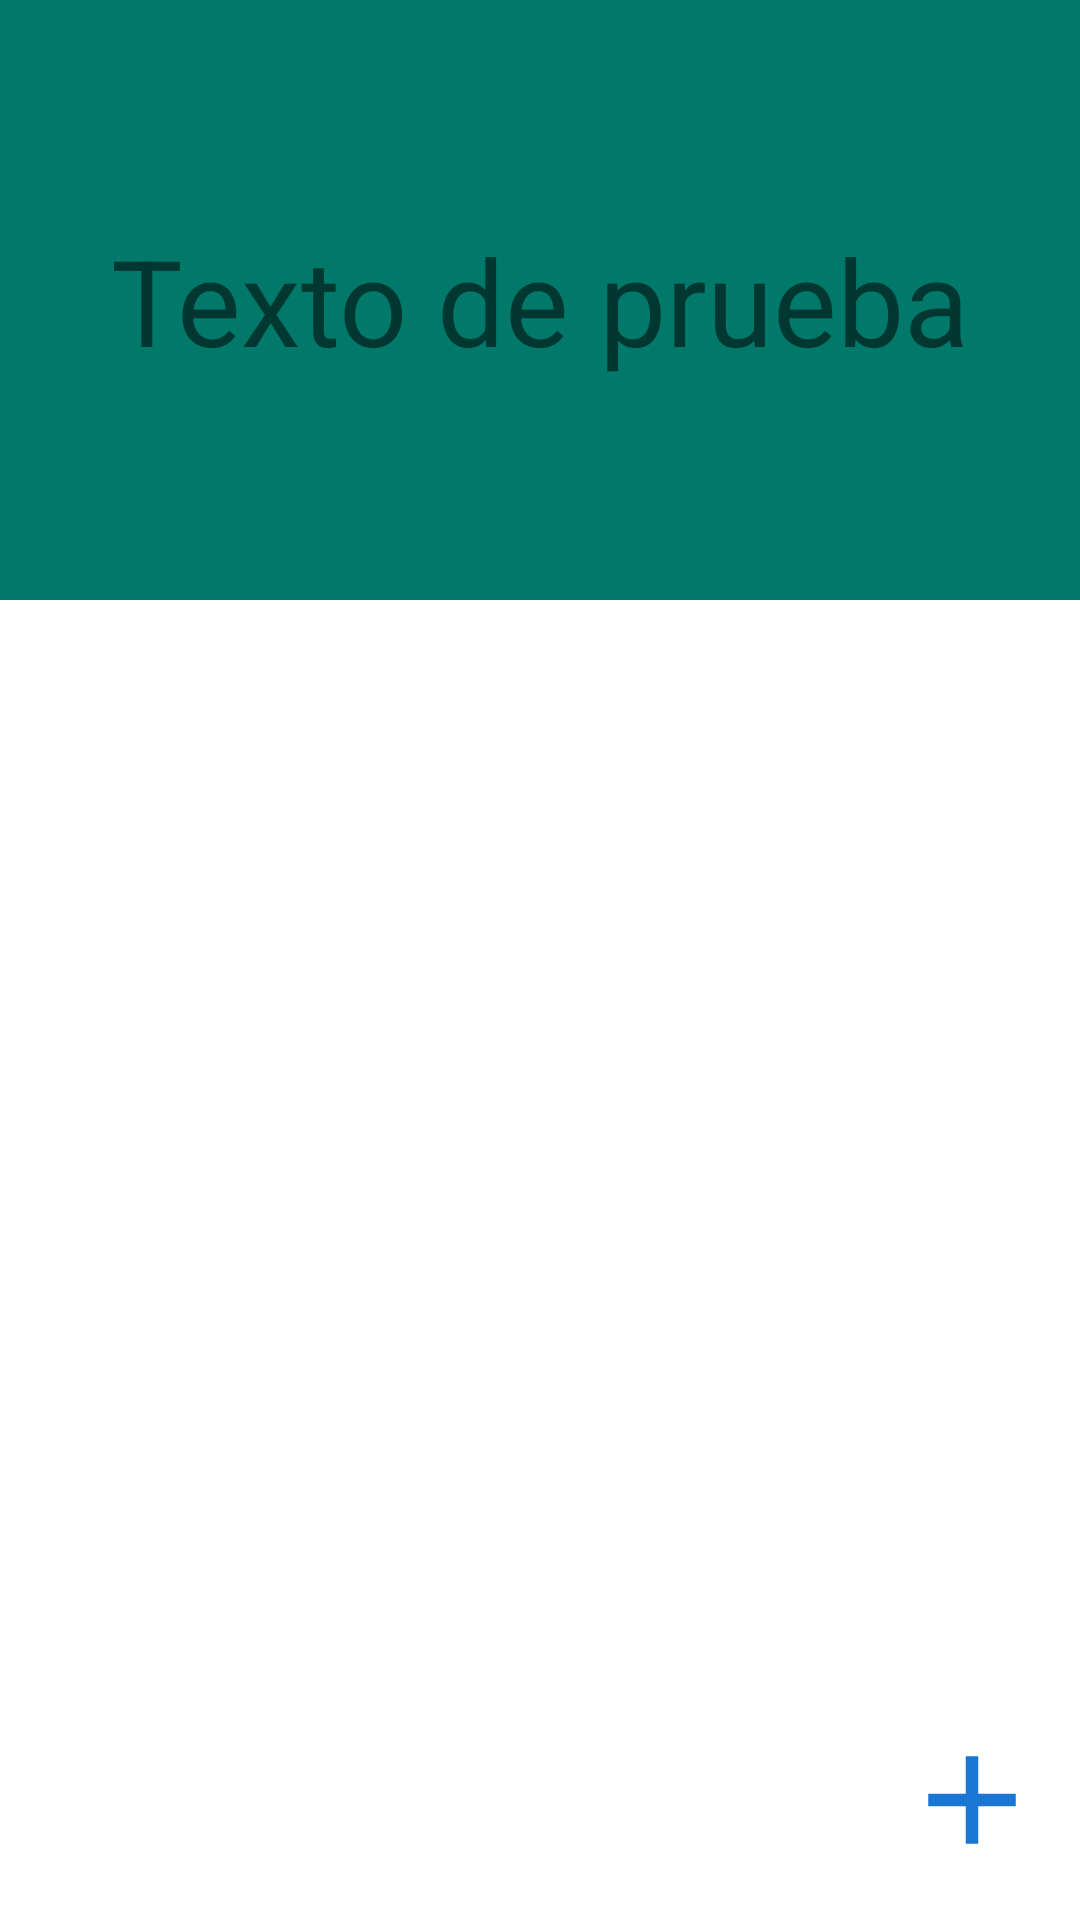

Point at icon controls on the screen. Image size 1080 × 1920, points as (x,y).
add: (972,1800)
